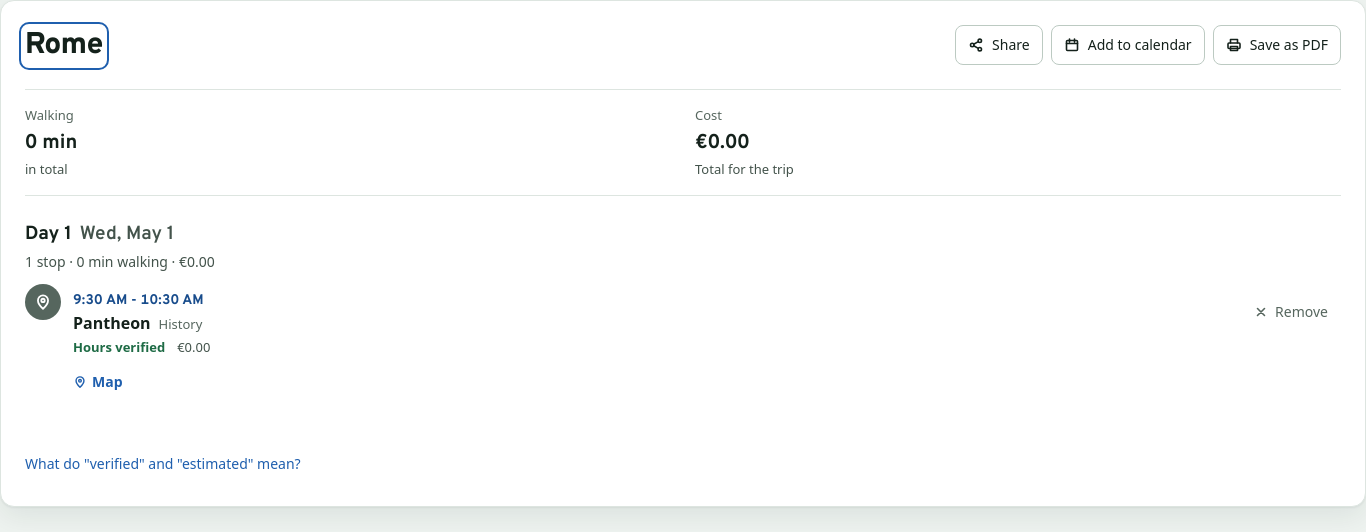
Test case: Share button › copies the read-only link
Click the button "Share" at (999, 45), box [955,25,1043,65]
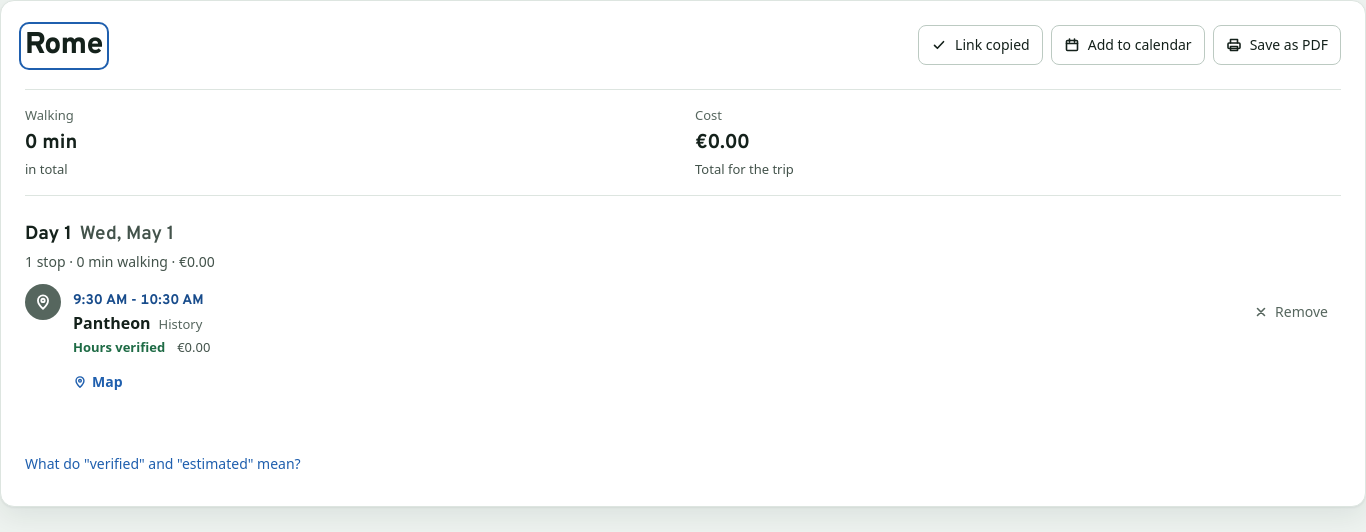
Expected: the button "Link copied" is shown, [918,25,1043,65]
